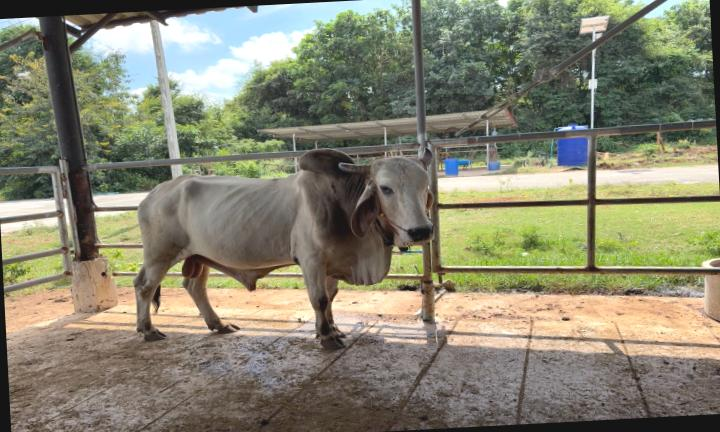Brahman: (133, 148, 432, 347)
